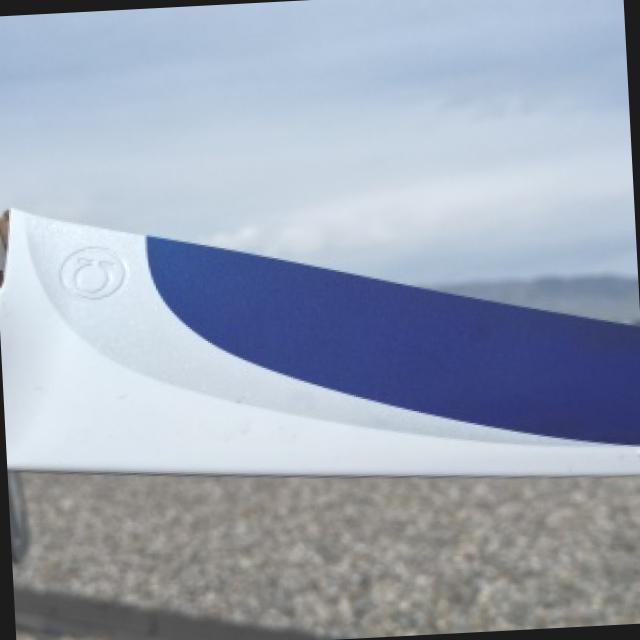healthy: (0, 208, 640, 474)
